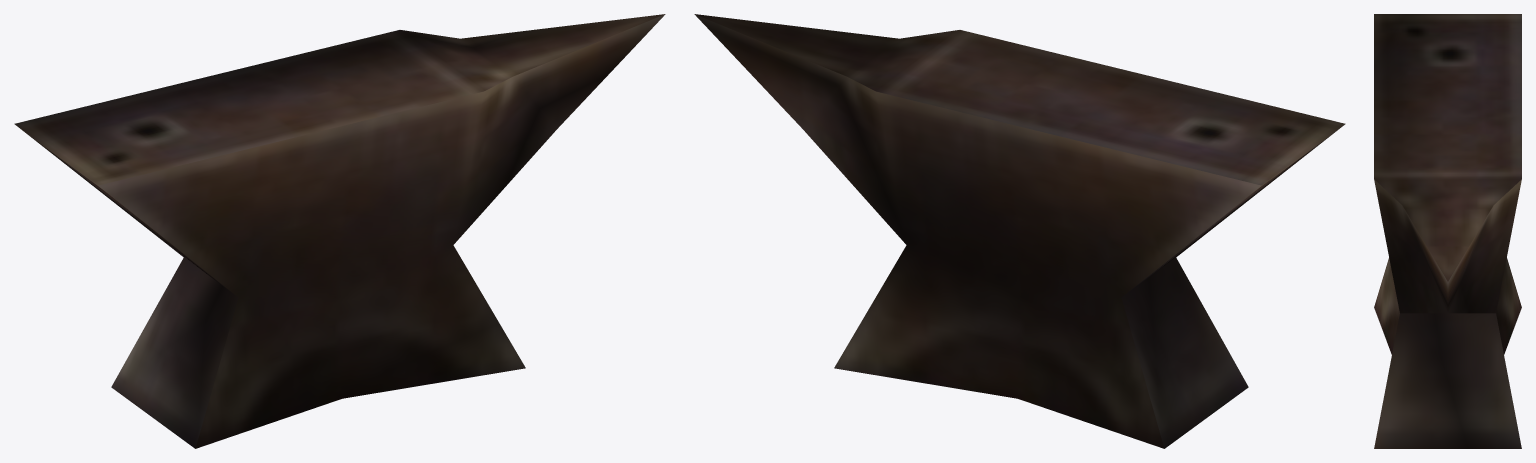
The model's file is razanAnmil.glb.
The picture shows the model from 3 angles, left to right: view 1: azimuth 30°, elevation 25°; view 2: azimuth 150°, elevation 25°; view 3: azimuth 270°, elevation 25°; orthographic projection. The views are drawn at different scales.
Parts seen in each view (by area): view 1: razanAnmil; view 2: razanAnmil; view 3: razanAnmil.
Part boxes in pixels (x1,y1,x2,y2): razanAnmil: (14,14,665,448); razanAnmil: (694,14,1345,448); razanAnmil: (1374,14,1521,448).
Bounding box in the file's own units: 1.29 × 0.5816 × 0.3094.
1 material, 1 textured.
